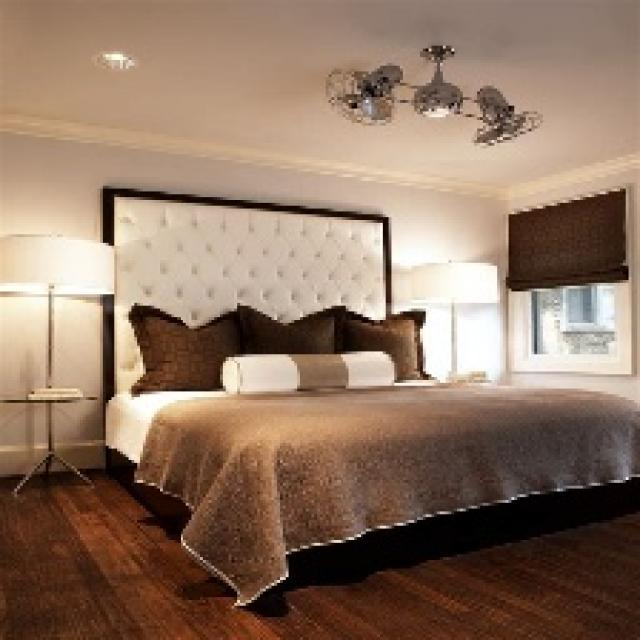Bed: (100, 183, 637, 608)
